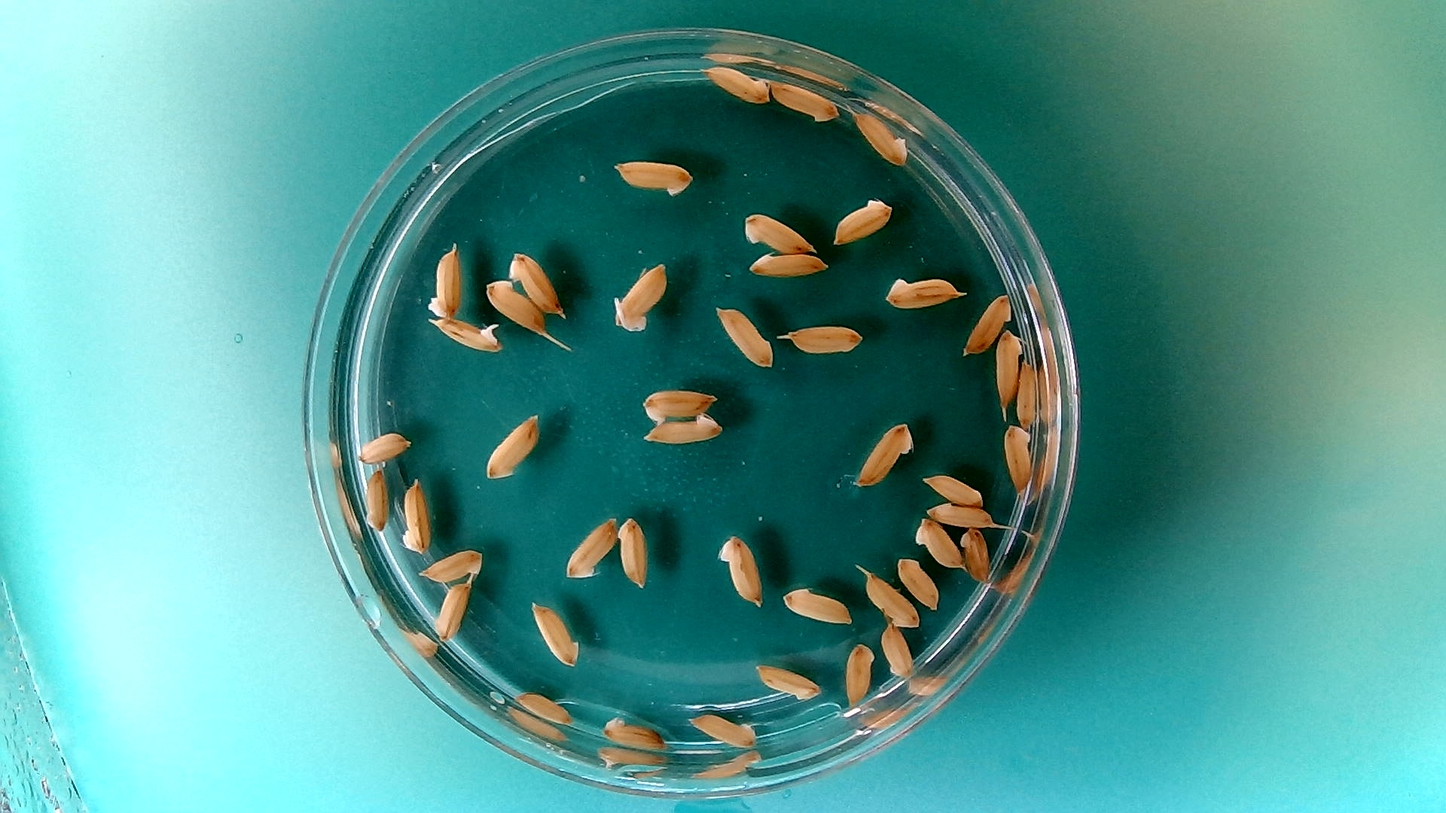no: (609, 258, 670, 336), (850, 417, 915, 489), (480, 408, 543, 480), (714, 529, 766, 610), (712, 302, 775, 368), (507, 246, 564, 317), (562, 510, 619, 580), (528, 596, 581, 671), (859, 566, 922, 629), (849, 106, 911, 168), (483, 277, 548, 336), (609, 155, 695, 198), (959, 291, 1013, 356), (739, 209, 817, 254), (830, 193, 895, 246), (768, 77, 842, 123), (423, 239, 464, 321), (881, 271, 967, 310), (639, 384, 720, 424), (779, 583, 854, 626), (641, 408, 725, 446), (598, 711, 672, 754), (750, 659, 823, 702), (700, 62, 773, 105), (686, 706, 759, 748), (431, 574, 474, 644), (911, 516, 965, 571), (398, 473, 433, 556), (416, 544, 485, 586), (784, 321, 866, 356), (615, 513, 651, 592), (511, 684, 575, 726), (895, 553, 941, 611), (1001, 422, 1035, 497), (920, 470, 987, 508), (746, 247, 828, 278), (993, 326, 1023, 410), (841, 639, 875, 708), (354, 425, 413, 464), (878, 622, 916, 681), (923, 499, 997, 528), (362, 461, 391, 534), (959, 525, 993, 584), (1013, 356, 1040, 428)
yes: (428, 314, 504, 353)
